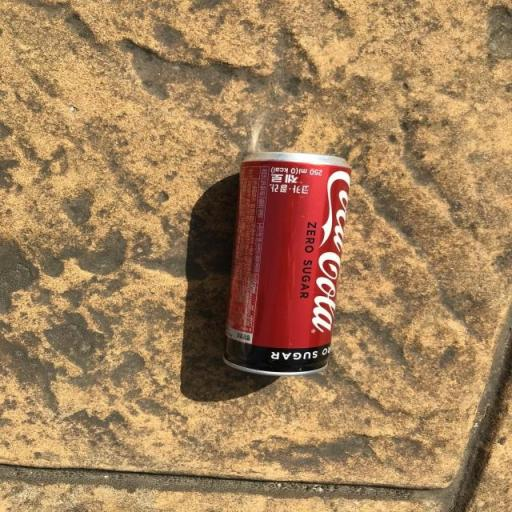metal: (195, 146, 379, 388)
